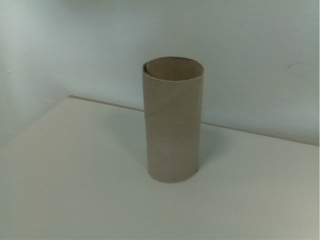rollo papel: (139, 55, 207, 187)
